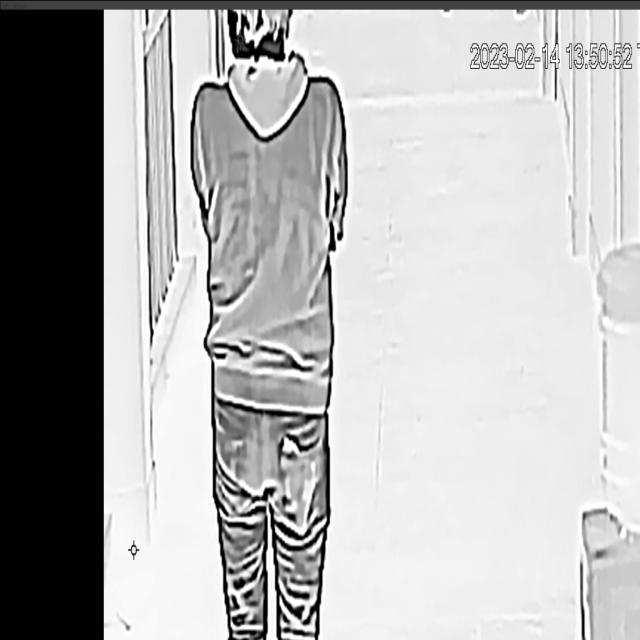Weapon: (279, 419, 318, 540)
